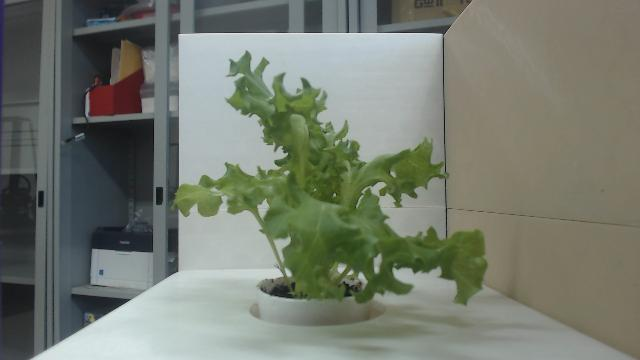Harvest Stage: (171, 50, 487, 308)
